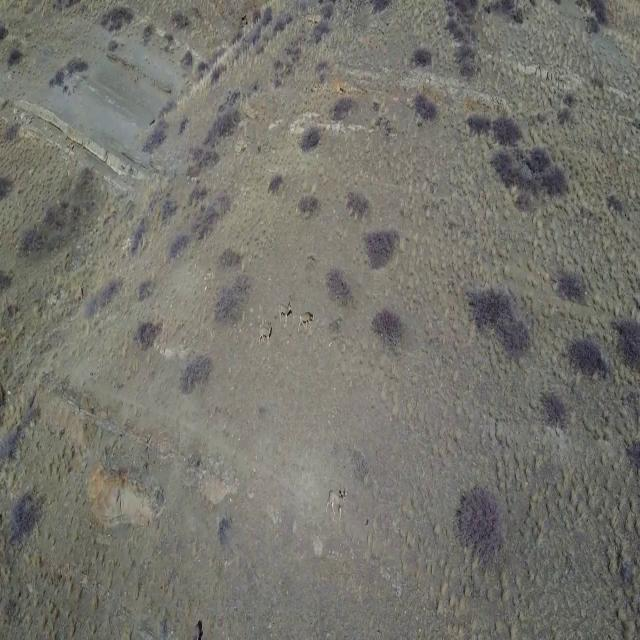Deer: (324, 484, 347, 519), (276, 302, 293, 327), (257, 322, 273, 345), (300, 309, 314, 333)
